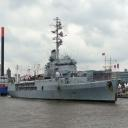Portanaves: (7, 16, 122, 105)
